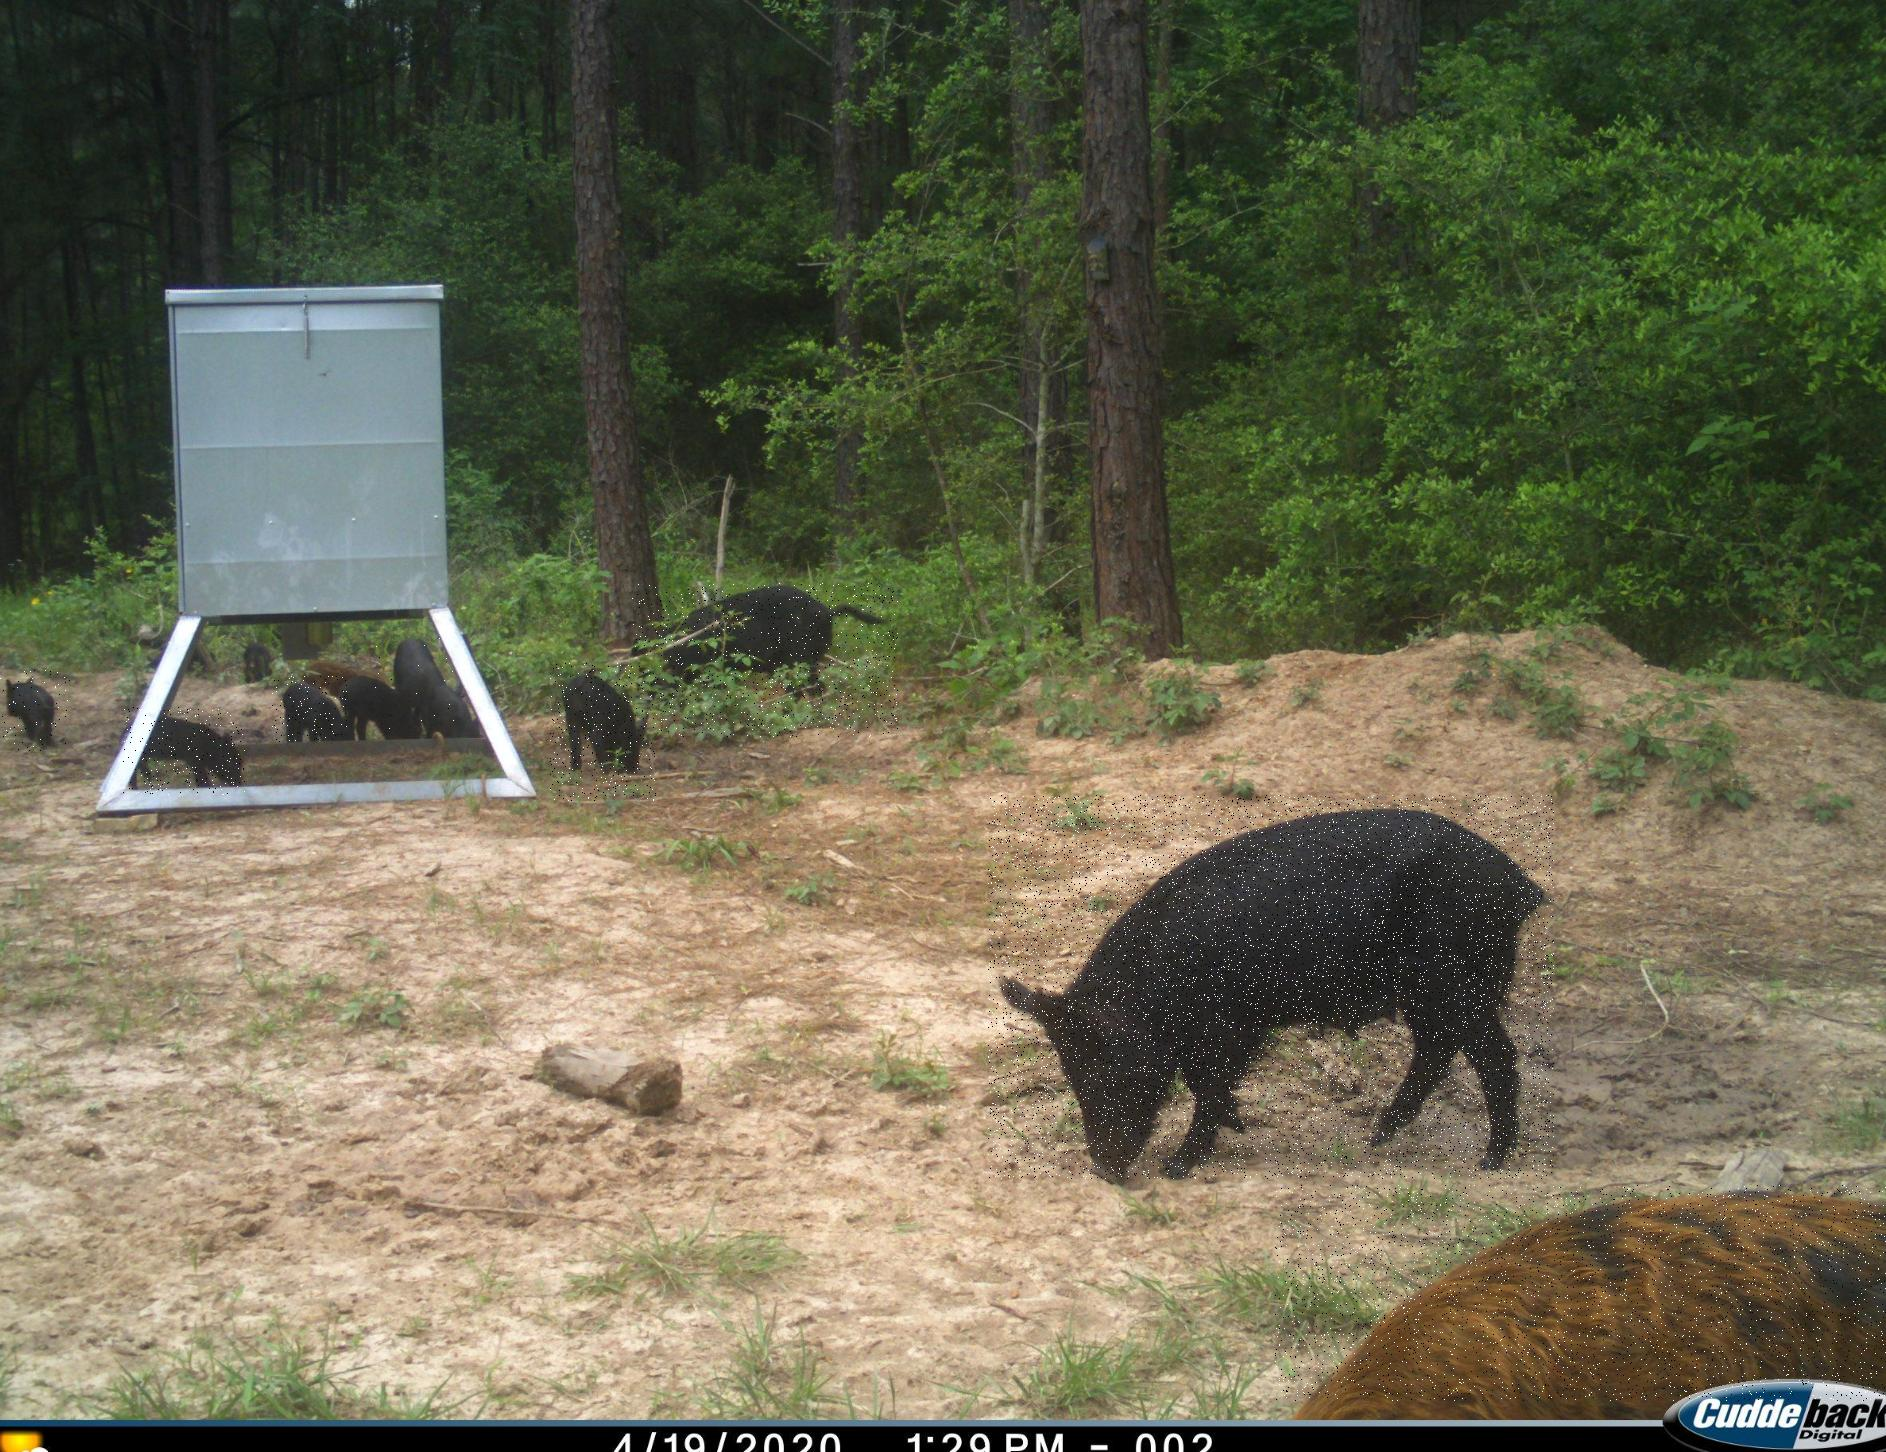Hog: (988, 795, 1554, 1179), (1275, 1185, 1886, 1402), (631, 583, 898, 737), (550, 663, 656, 801), (123, 708, 245, 795), (374, 631, 474, 732), (0, 670, 72, 750), (271, 676, 348, 741)
